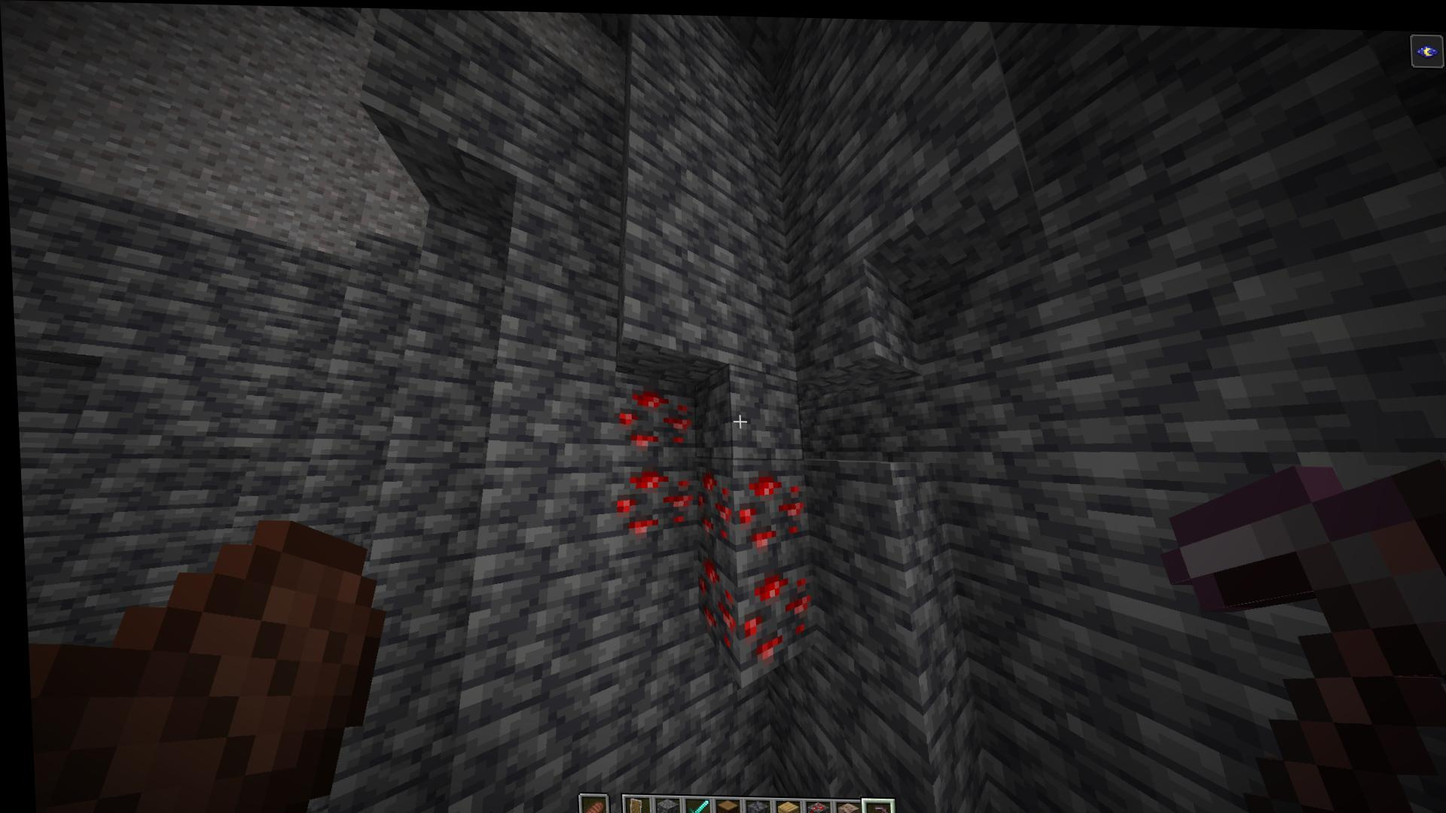redstone ore: (730, 553, 811, 660), (604, 458, 693, 541), (724, 459, 805, 550), (608, 378, 694, 453), (690, 554, 737, 654), (690, 458, 731, 543)
